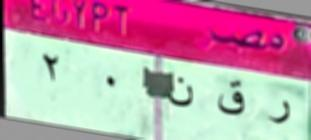0: (101, 68, 122, 95)
2: (39, 48, 62, 87)
noon: (168, 76, 197, 111)
qaaf: (216, 77, 247, 122)
raa: (264, 93, 295, 128)
